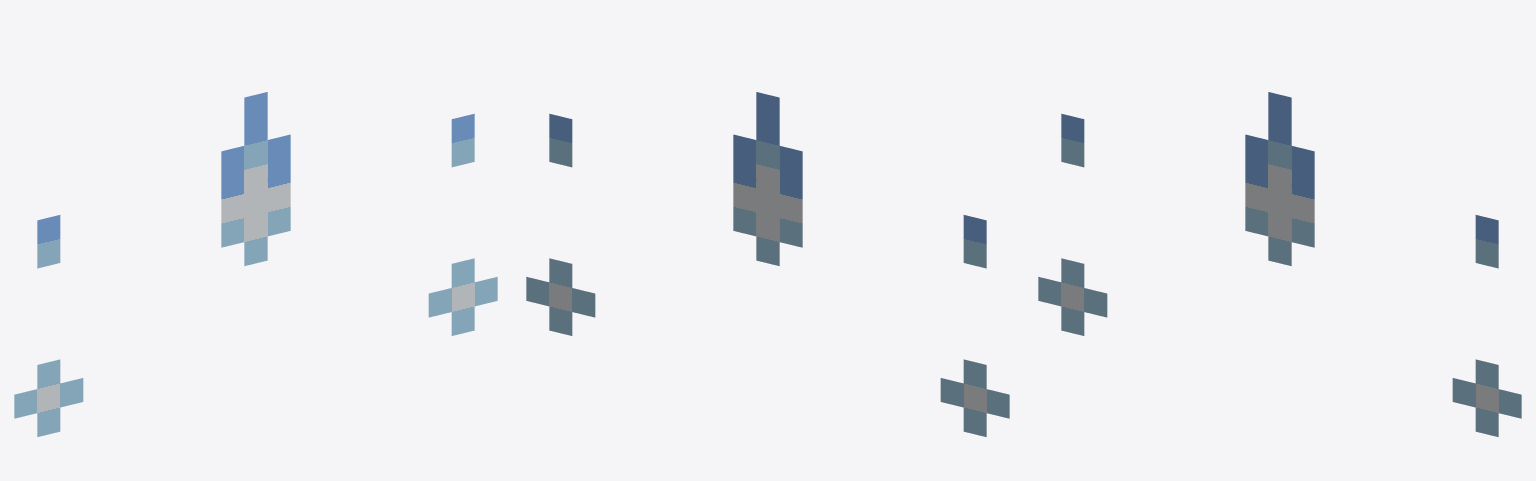
Rendered from sl_head_flames.glb.
3 renders of one model, left to right at view 1: azimuth 30°, elevation 25°; view 2: azimuth 150°, elevation 25°; view 3: azimuth 330°, elevation 25°, orthographic.
Parts seen in each view (by area): view 1: bb_head_flames; view 2: bb_head_flames; view 3: bb_head_flames.
Boxes of the visible parts, <box> form: bb_head_flames: <box>14,92,497,436</box>; bb_head_flames: <box>526,92,1009,436</box>; bb_head_flames: <box>1038,92,1521,436</box>.
Size of the model in its own units: 1.31 by 1 by 0.
1 material, 1 textured.
